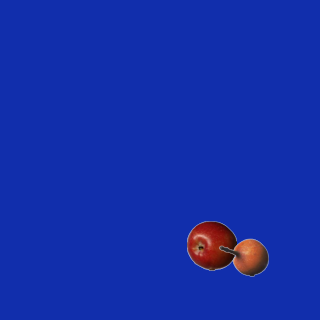Apple Braeburn: (186, 220, 236, 270)
Granadilla: (218, 232, 268, 282)
